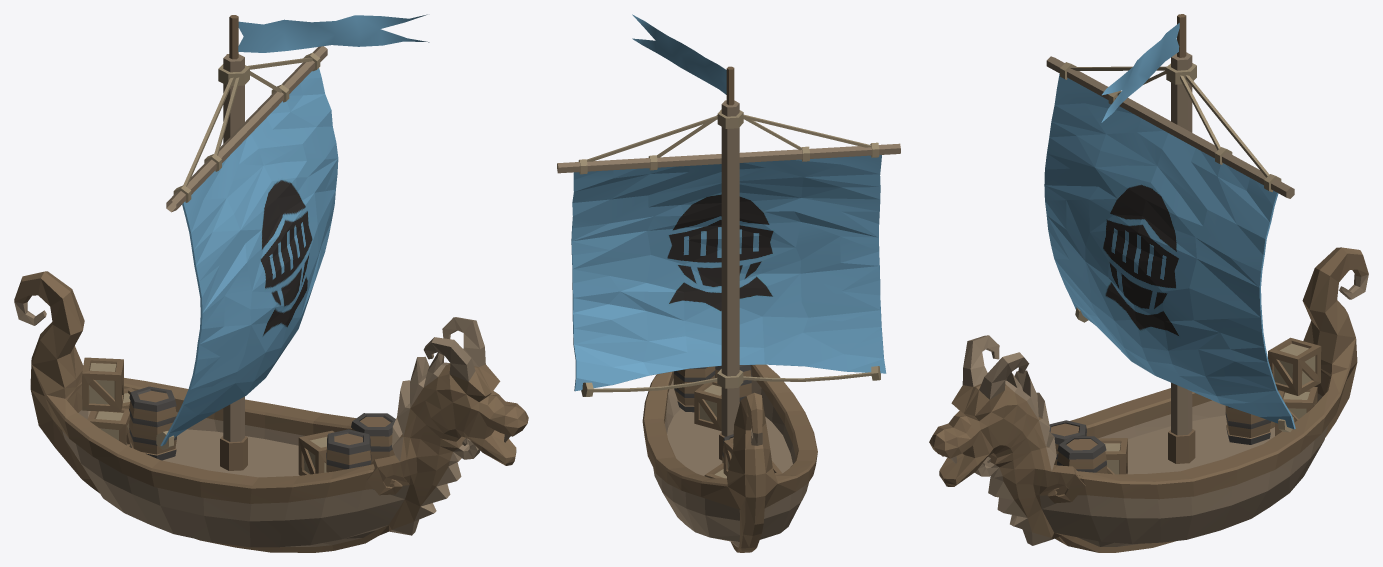
The model's file is merchantShip.fbx.
3 views of the same model, side by side, from view 1: azimuth 30°, elevation 25°; view 2: azimuth 150°, elevation 25°; view 3: azimuth 270°, elevation 25° (orthographic). The views are drawn at different scales.
Visible parts, largest first — view 1: merchantShip, merchantShipFlag; view 2: merchantShip, merchantShipFlag; view 3: merchantShip, merchantShipFlag.
Part boxes in pixels (x1,y1,x2,y2): merchantShip: [14, 15, 528, 552]; merchantShipFlag: [238, 14, 429, 52]; merchantShip: [557, 66, 900, 552]; merchantShipFlag: [632, 14, 726, 94]; merchantShip: [929, 14, 1368, 552]; merchantShipFlag: [1101, 23, 1179, 122].
Bounding box in the file's own units: 2.32 × 3.82 × 2.93.
3 materials, 3 textured.
